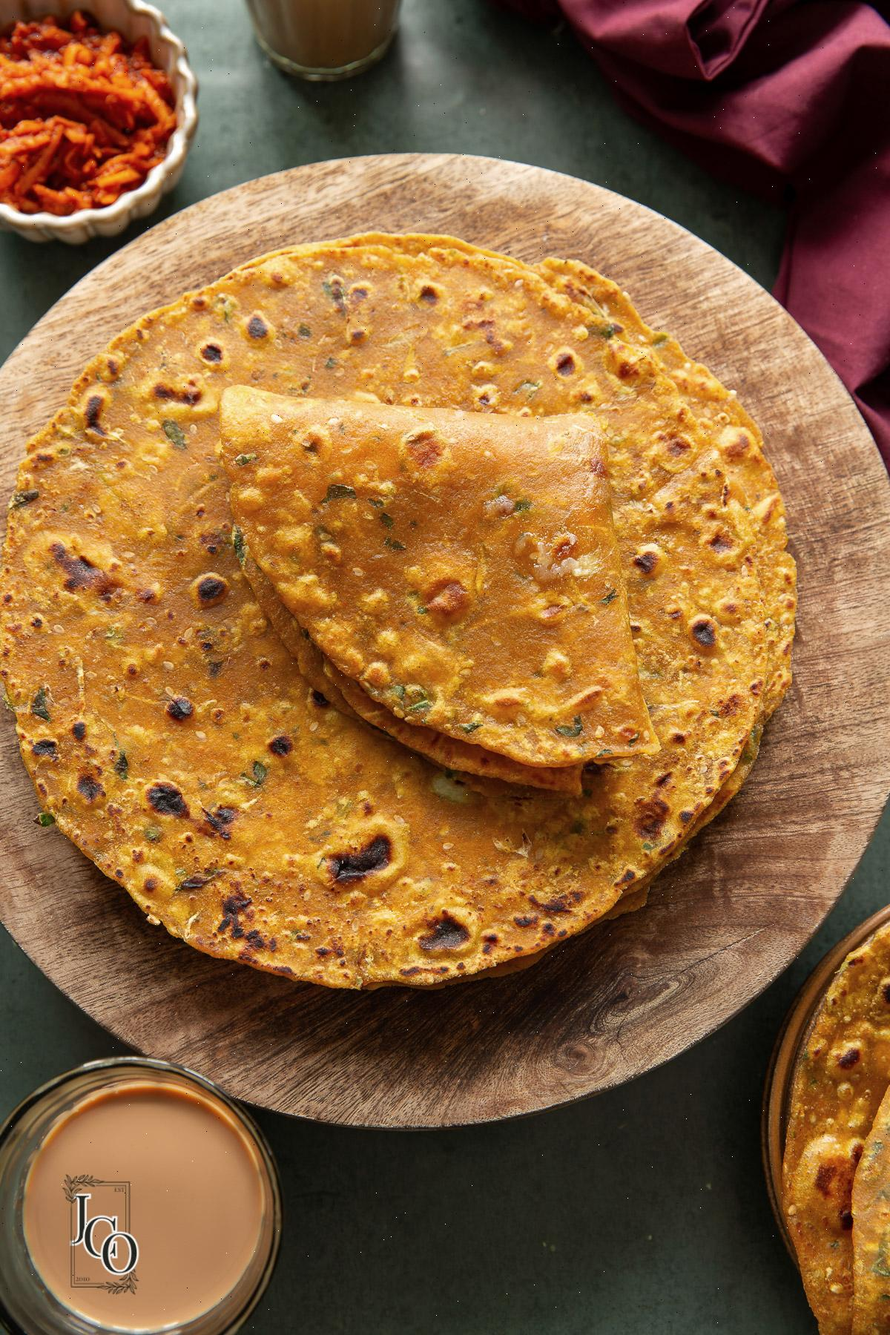thepla: (0, 234, 813, 1000)
